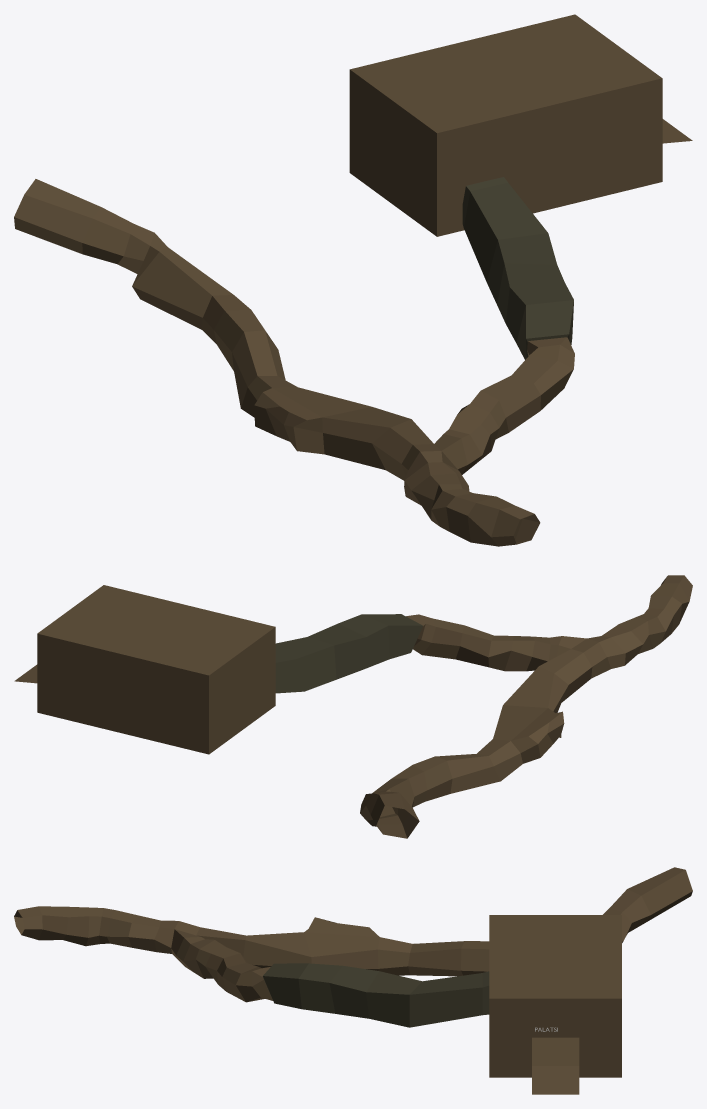
Rendered from UndergroundTemple.fbx.
3 views of the same model, one above another, from view 1: azimuth 30°, elevation 25°; view 2: azimuth 150°, elevation 25°; view 3: azimuth 270°, elevation 25° (orthographic). The views are drawn at different scales.
Parts seen in each view (by area): view 1: Cube, BezierCurve.000, Cube.001; view 2: Cube, BezierCurve.000, Cube.001; view 3: Cube, BezierCurve.000, Cube.001.
Part boxes in pixels (<box>): Cube: <box>349,14,692,236</box>; BezierCurve.000: <box>14,179,574,546</box>; Cube.001: <box>462,177,573,359</box>; Cube: <box>14,585,275,754</box>; BezierCurve.000: <box>360,575,692,838</box>; Cube.001: <box>275,614,422,693</box>; Cube: <box>489,915,621,1094</box>; BezierCurve.000: <box>14,867,692,1002</box>; Cube.001: <box>262,963,489,1027</box>.
Size of the model in its own units: 7852 by 2363 by 10276.
